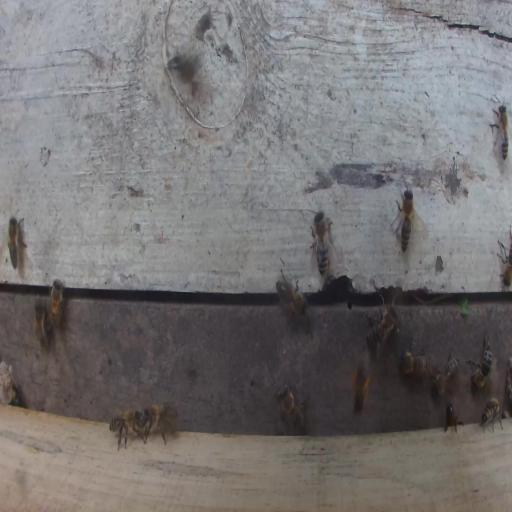nonpollenbee: (309, 209, 338, 277), (365, 303, 400, 359), (275, 267, 309, 317), (277, 385, 308, 438), (144, 403, 181, 445), (109, 407, 145, 450), (396, 186, 416, 255), (430, 353, 460, 399), (469, 343, 496, 393), (399, 334, 428, 378), (7, 216, 28, 268), (493, 104, 510, 166), (47, 278, 65, 332), (496, 222, 511, 286), (482, 396, 504, 433), (34, 296, 49, 348), (443, 402, 464, 434)
pollenbee: (352, 362, 372, 415)
